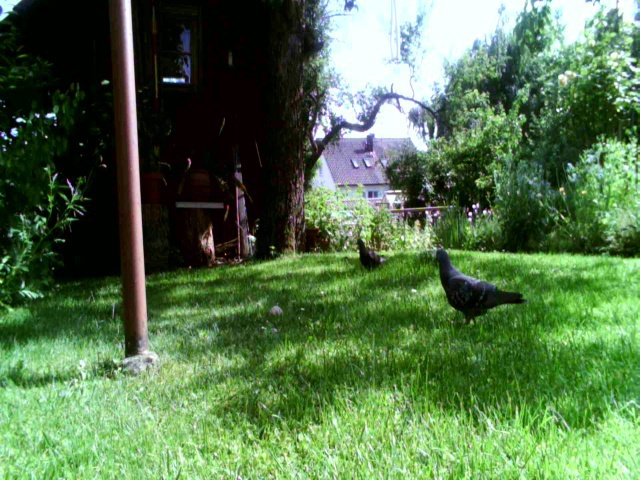Pigeon: (425, 239, 532, 327), (351, 235, 387, 272)
